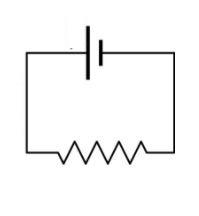resistor: (44, 132, 155, 177)
